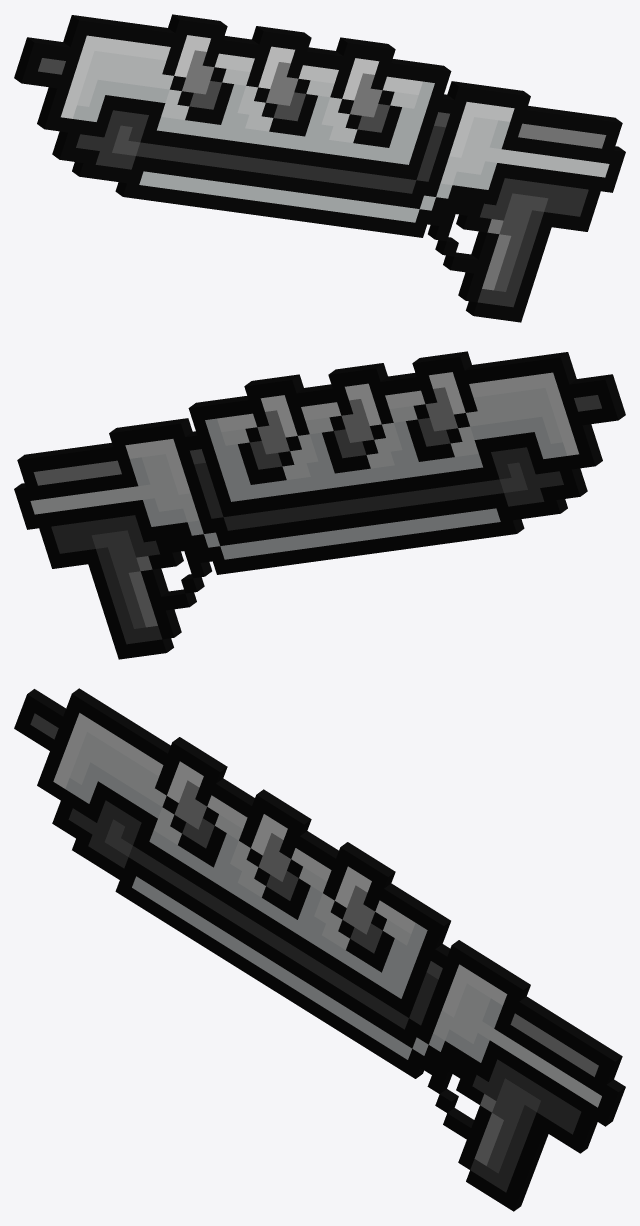
Rendered from White Paintball Gun.glb.
3 views of the same model, one above another, from view 1: azimuth 30°, elevation 25°; view 2: azimuth 150°, elevation 25°; view 3: azimuth 330°, elevation 25° (orthographic).
Parts seen in each view (by area): view 1: Untitled; view 2: Untitled; view 3: Untitled.
Boxes of the visible parts, <box> form: Untitled: <box>14,14,625,322</box>; Untitled: <box>14,351,625,659</box>; Untitled: <box>14,688,625,1211</box>.
Size of the model in its own units: 18.93 by 12.27 by 0.4.
1 material, 1 textured.
